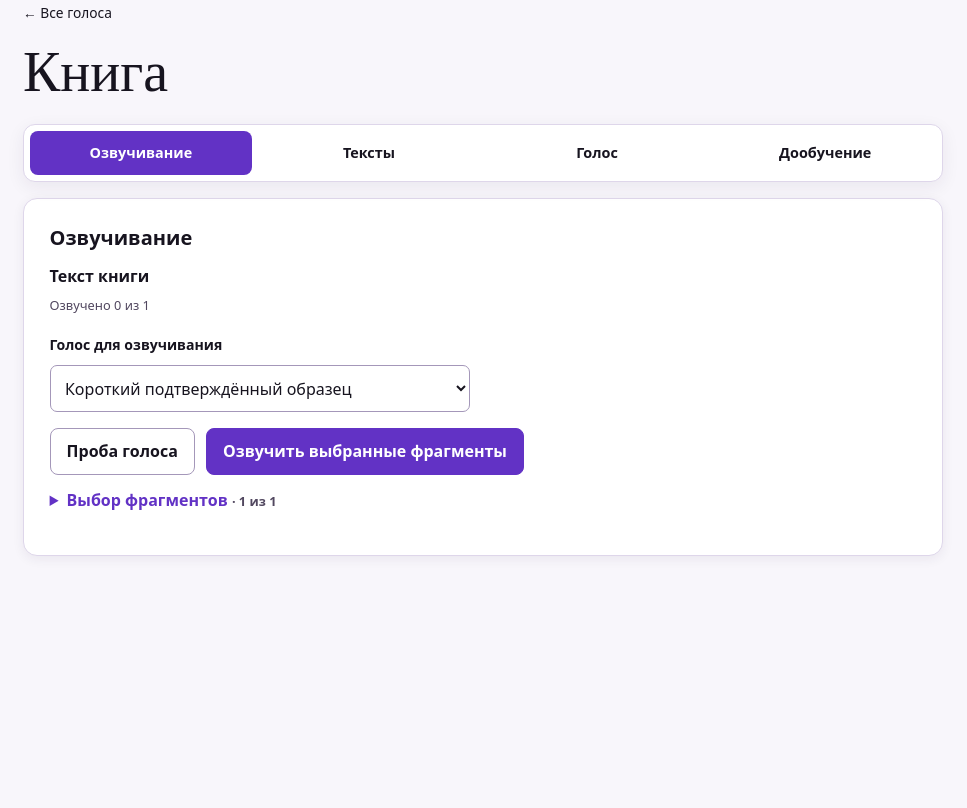
Russian corpus review › offers an explicit fresh preparation for a partial nonresumable draft while keeping approved versions
Click the button "Дообучение" at (825, 153), box x1=714 y1=131 x2=936 y2=175
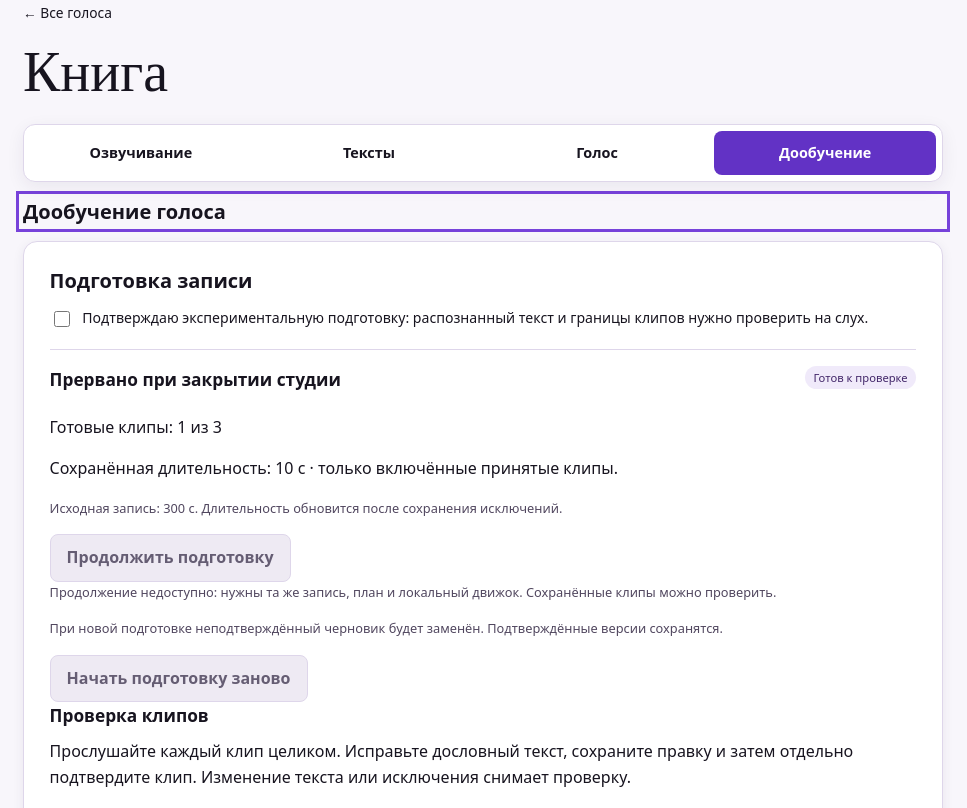
Now the button "Начать подготовку заново" is disabled, box x1=50 y1=655 x2=308 y2=702
Now the element "Подготовка записи" shows "неподтверждённый черновик будет заменён", box x1=50 y1=619 x2=723 y2=637
Now the element "Подготовка записи" shows "подтверждённые версии сохранятся", box x1=50 y1=619 x2=723 y2=637
Click the checkbox labelled "экспериментальную подготовку" at (62, 319), box x1=54 y1=311 x2=70 y2=327
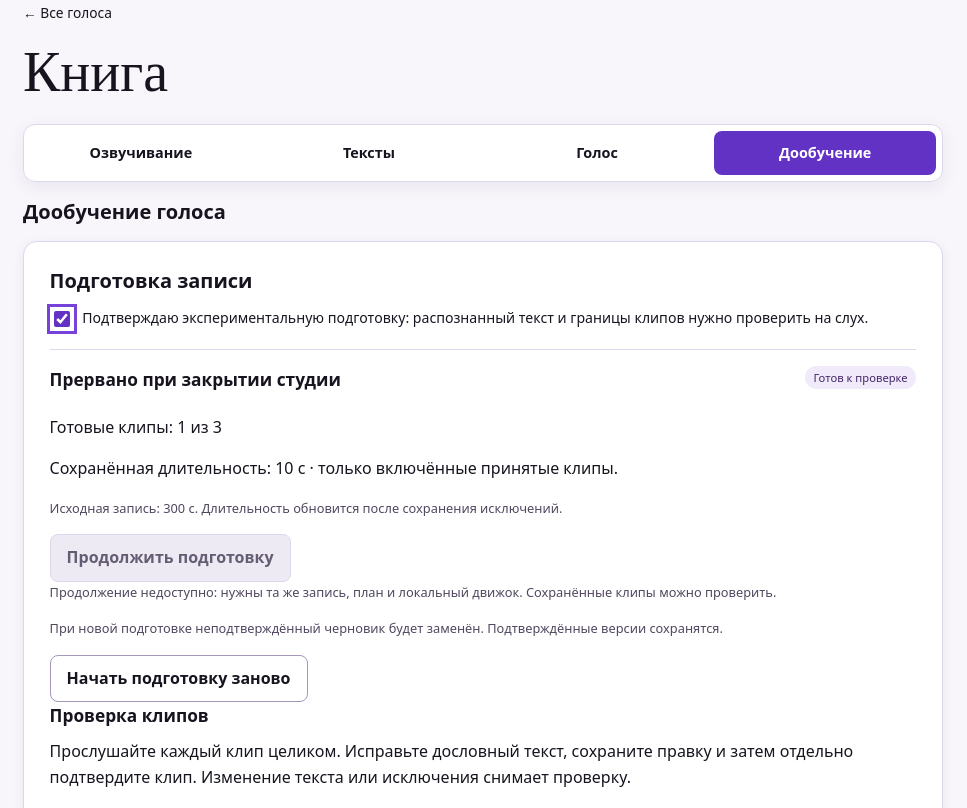
Click the button "Начать подготовку заново" at (179, 678), box x1=50 y1=655 x2=308 y2=702
(page scrolled)
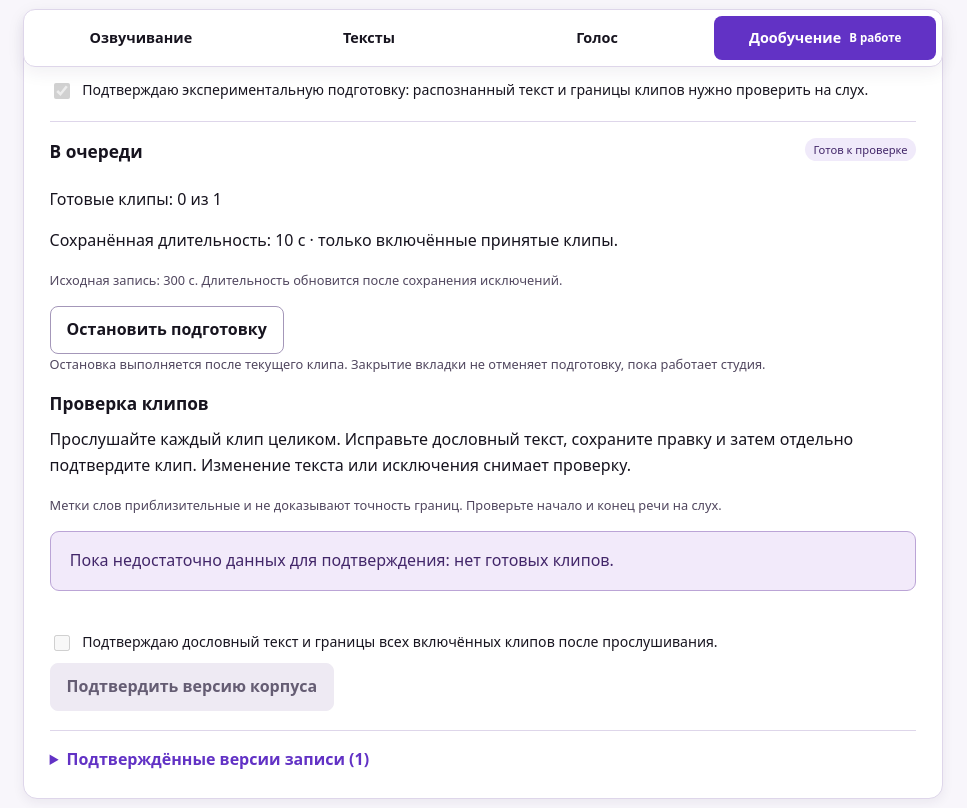
Now the heading "В очереди" is shown, box x1=50 y1=138 x2=143 y2=166
